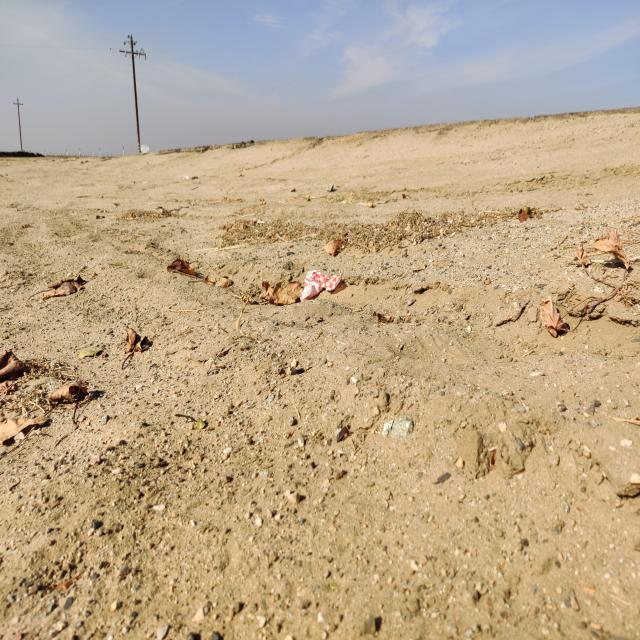litter: (300, 270, 341, 301)
